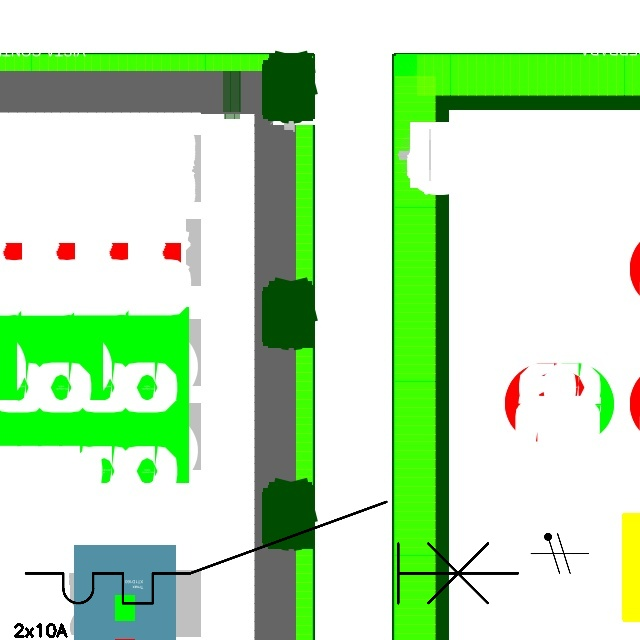interruptor_termomagnetico: (13, 489, 530, 616)
